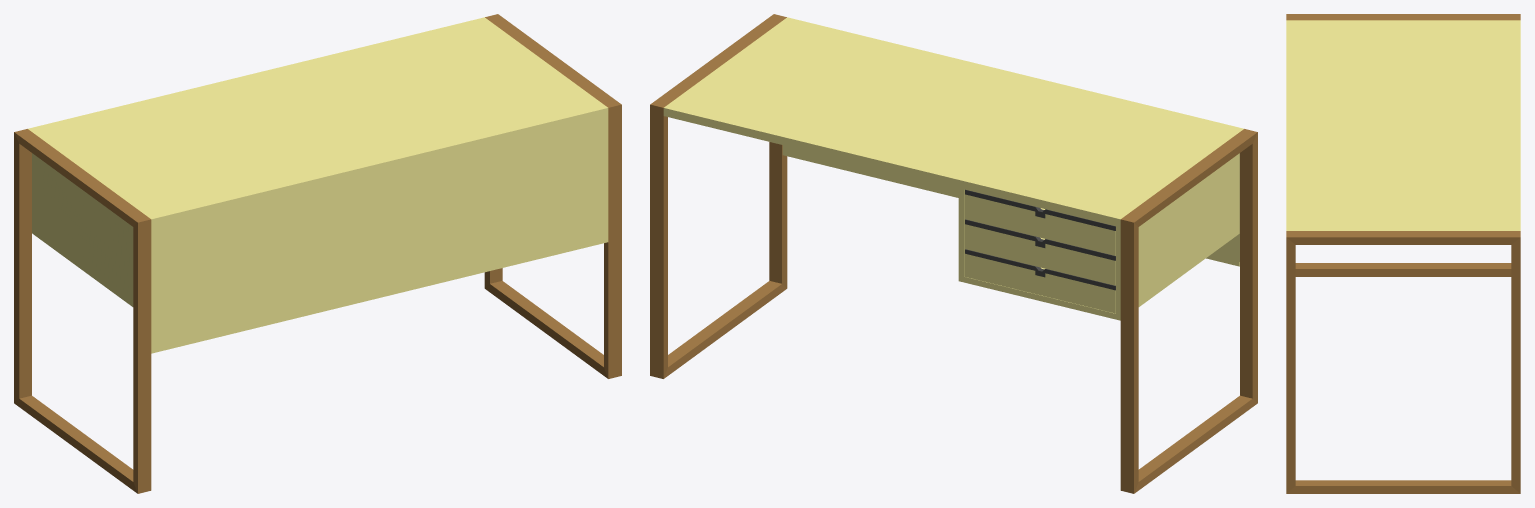
File: SM_Desk_001.fbx
The picture shows the model from 3 angles, left to right: view 1: azimuth 30°, elevation 25°; view 2: azimuth 150°, elevation 25°; view 3: azimuth 270°, elevation 25°; orthographic projection. The views are drawn at different scales.
Visible parts, largest first — view 1: Desk; view 2: Desk; view 3: Desk.
Boxes of the visible parts, <box> form: Desk: <box>14,14,621,493</box>; Desk: <box>650,14,1257,493</box>; Desk: <box>1286,14,1520,493</box>.
Size of the model in its own units: 140 by 75 by 62.
